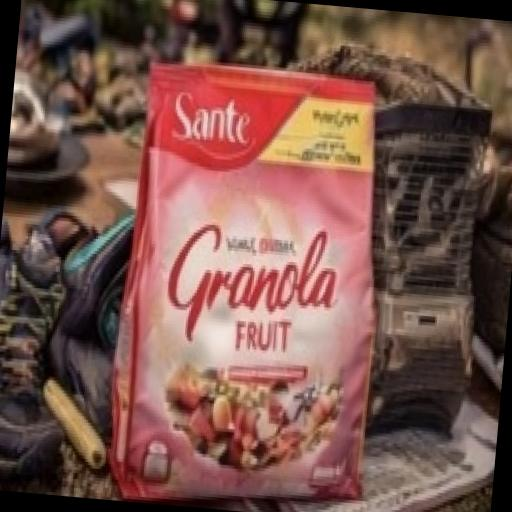granola: (99, 53, 440, 512)
